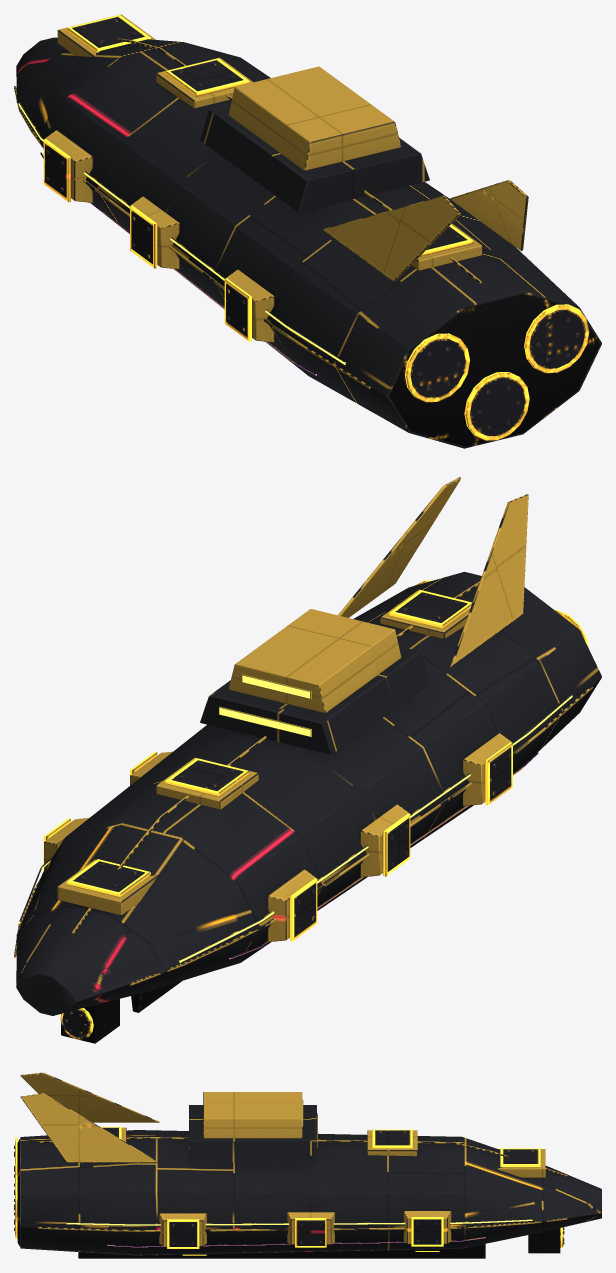
File: casco_fragata_t4.fbx
3 renders of one model, top to bottom at view 1: azimuth 30°, elevation 25°; view 2: azimuth 150°, elevation 25°; view 3: azimuth 270°, elevation 25°, orthographic. The views are drawn at different scales.
Visible parts, largest first — view 1: casco_fragata_t4, casco_fragata_t4_neon; view 2: casco_fragata_t4, casco_fragata_t4_neon; view 3: casco_fragata_t4, casco_fragata_t4_neon, casco_fragata_t4_neon2.
Boxes of the visible parts, x1,y1,x2,y2 form: casco_fragata_t4: [14, 14, 601, 448]; casco_fragata_t4_neon: [18, 103, 345, 364]; casco_fragata_t4: [14, 477, 601, 1043]; casco_fragata_t4_neon: [18, 674, 572, 962]; casco_fragata_t4: [14, 1072, 601, 1258]; casco_fragata_t4_neon: [66, 1100, 532, 1225]; casco_fragata_t4_neon2: [107, 1237, 485, 1247].
Bounding box in the file's own units: 9.99 × 9.62 × 29.31.
